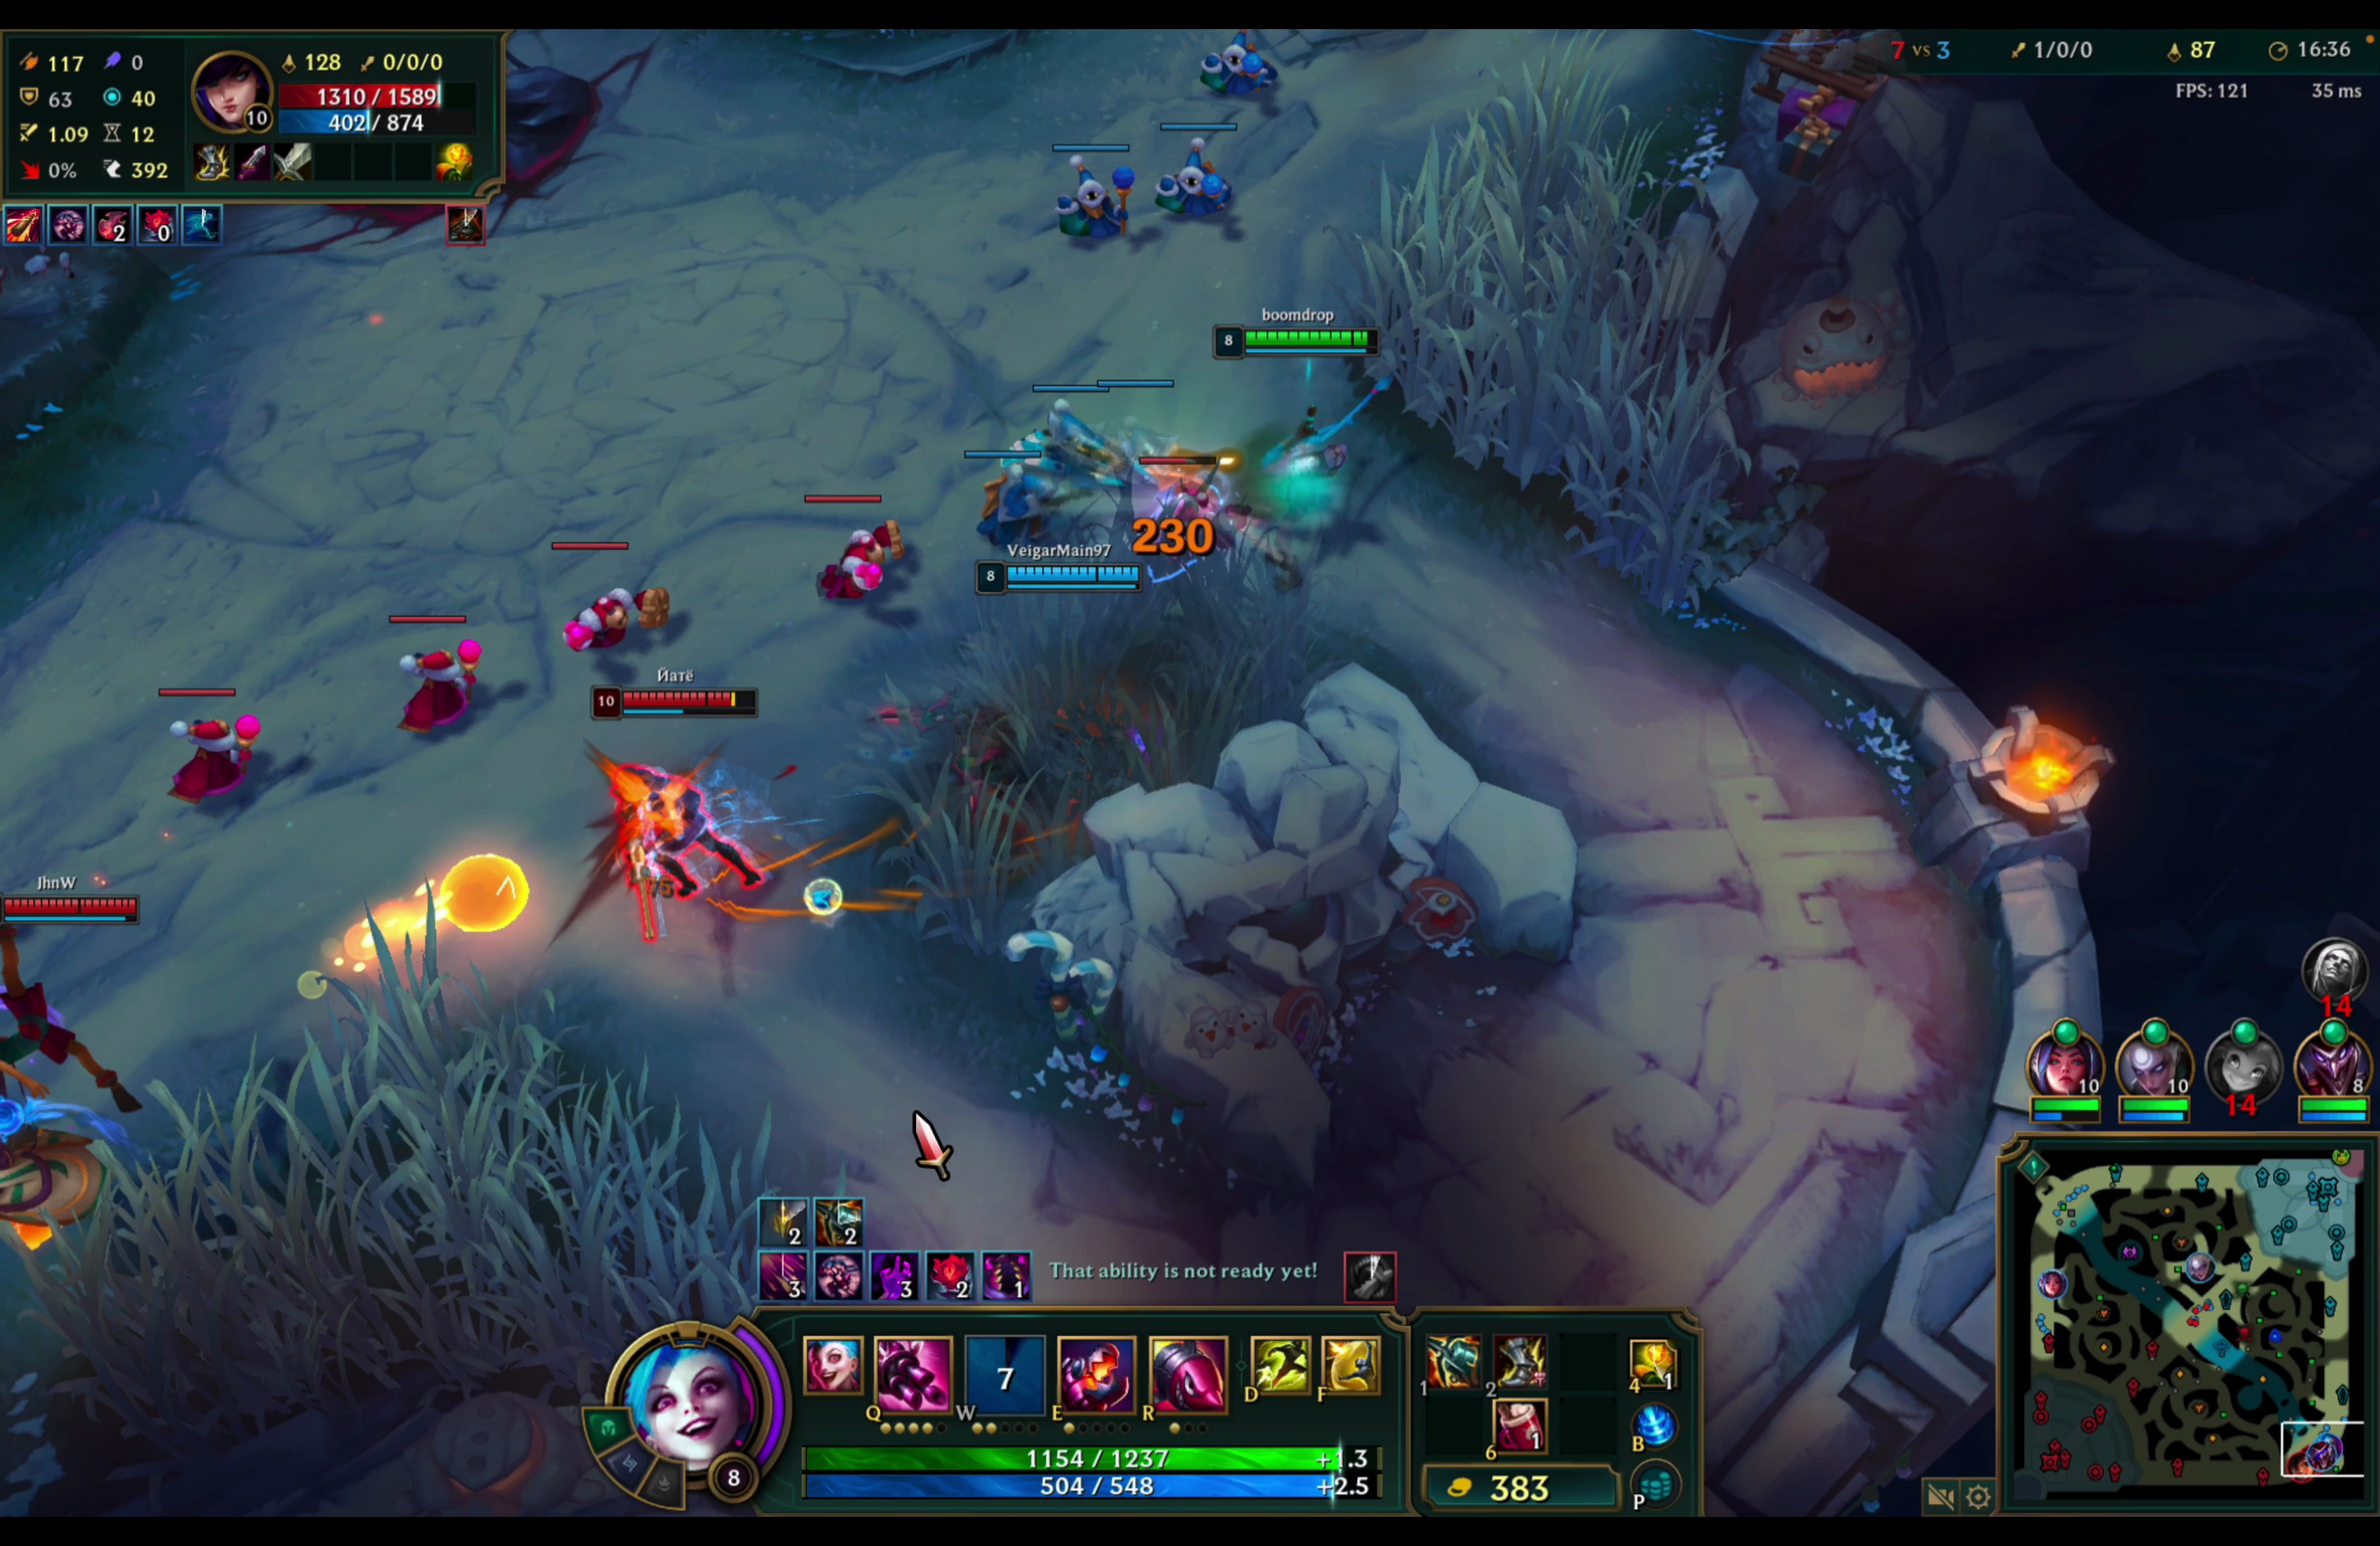JINX_W_IMPACT: (1119, 305, 1395, 566)
